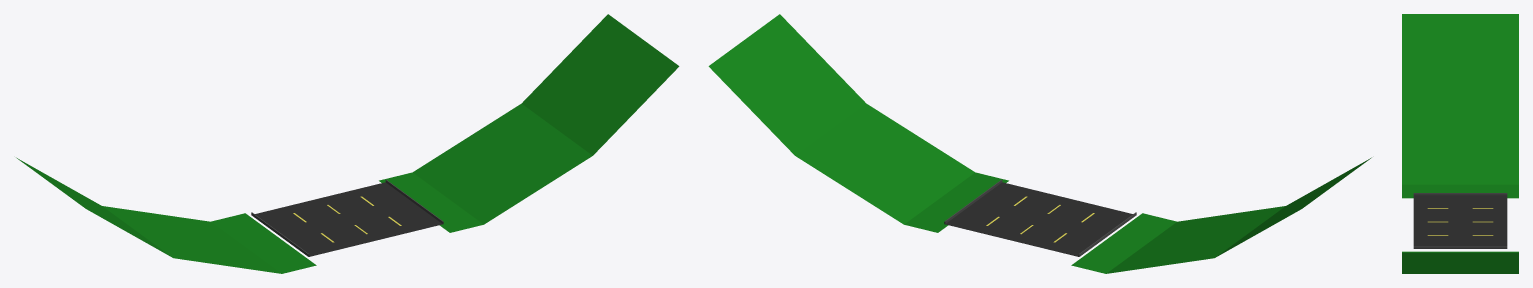
The model's file is GreenTemplate.fbx.
The picture shows the model from 3 angles, left to right: view 1: azimuth 30°, elevation 25°; view 2: azimuth 150°, elevation 25°; view 3: azimuth 270°, elevation 25°; orthographic projection. The views are drawn at different scales.
Parts seen in each view (by area): view 1: RoadSide, Road; view 2: RoadSide, Road; view 3: RoadSide, Road.
Boxes of the visible parts, left/top/right/bottom form: RoadSide: left=16, top=14, right=679, bottom=273; Road: left=251, top=179, right=443, bottom=256; RoadSide: left=708, top=14, right=1371, bottom=273; Road: left=944, top=179, right=1136, bottom=256; RoadSide: left=1402, top=14, right=1518, bottom=273; Road: left=1413, top=193, right=1507, bottom=248.
Size of the model in its own units: 17948 by 3263 by 3742.
